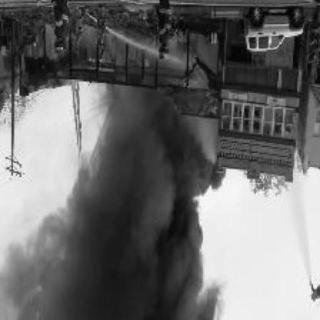Smoke: (26, 89, 220, 318)
